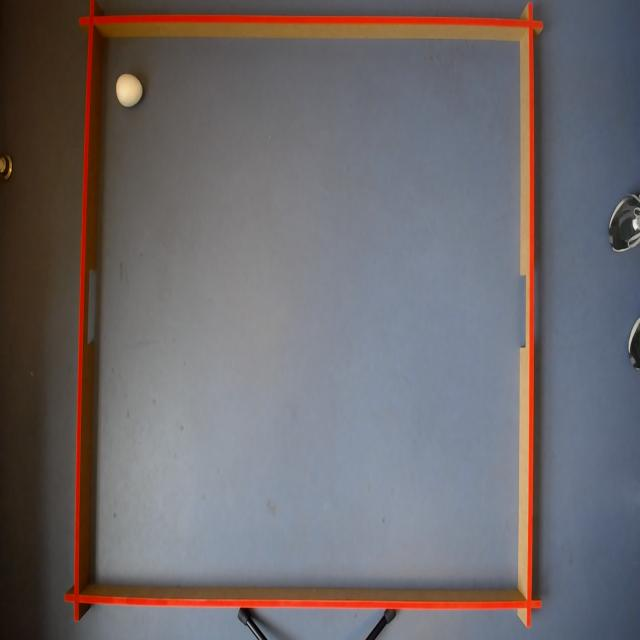egg: (114, 70, 144, 111)
